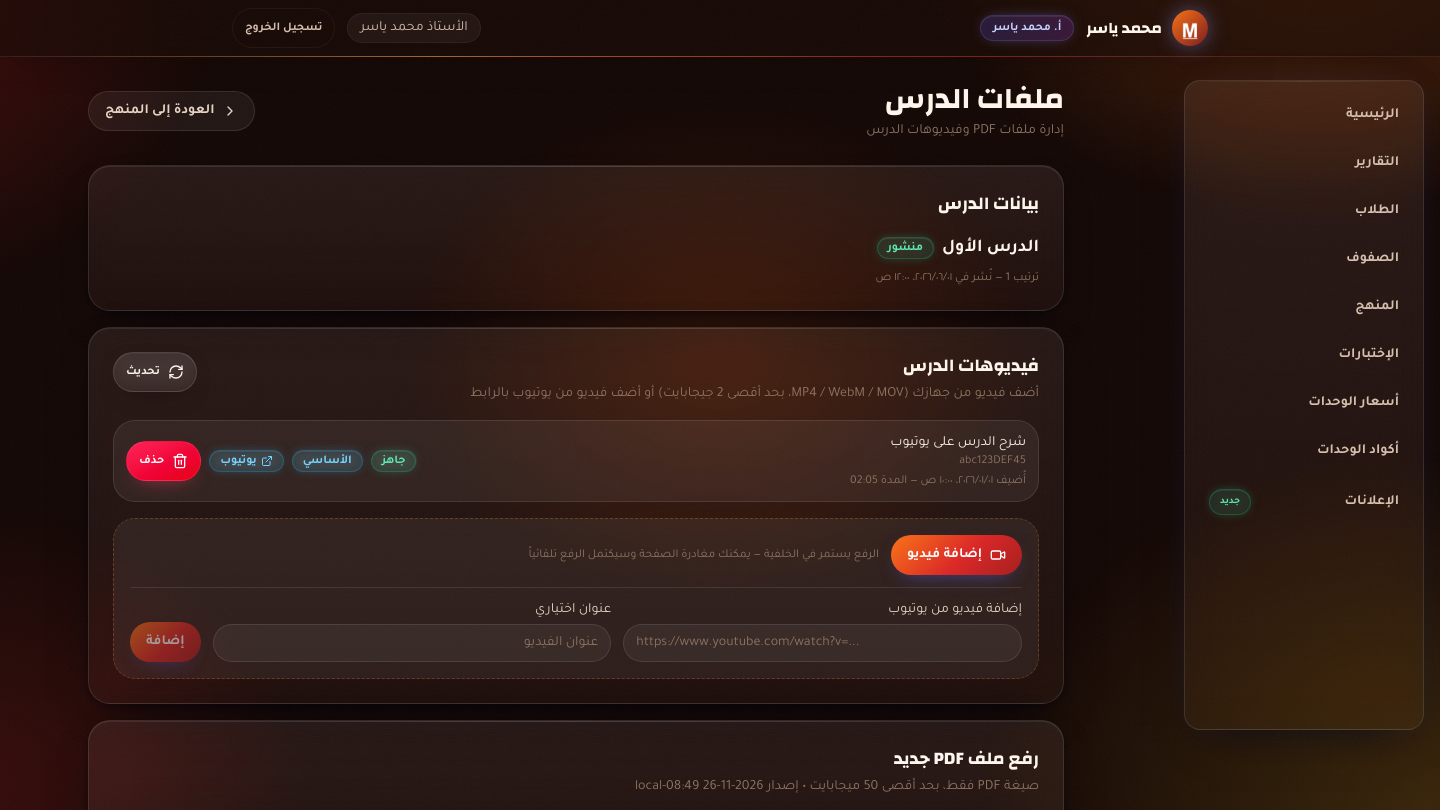
it: LessonAssetsPage — video section › adds a valid YouTube video through the RPC with url and optional title
Check: the list item with test id "video-row-youtube-1" is shown, box top-left (113, 420), bottom-right (1039, 502)
Type "https://www.youtube.com/watch?v=abc123DEF45" into the field labelled "إضافة فيديو من يوتيوب".
click(823, 643); type("https://www.youtube.com/watch?v=abc123DEF45")  # box top-left (623, 624), bottom-right (1022, 662)
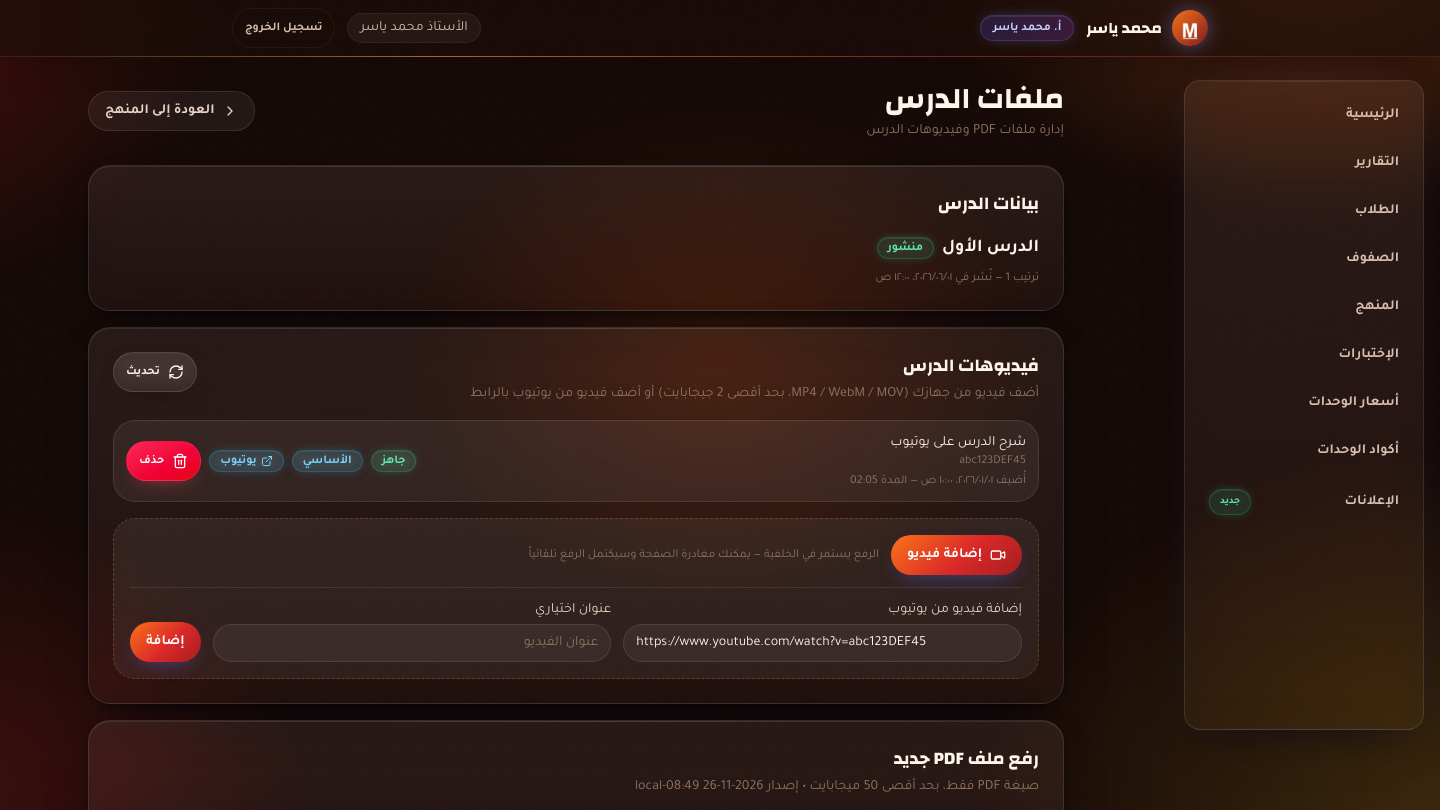
Type "شرح الدرس على يوتيوب" into the field labelled "عنوان اختياري".
click(412, 643); type("شرح الدرس على يوتيوب")  # box top-left (212, 624), bottom-right (611, 662)
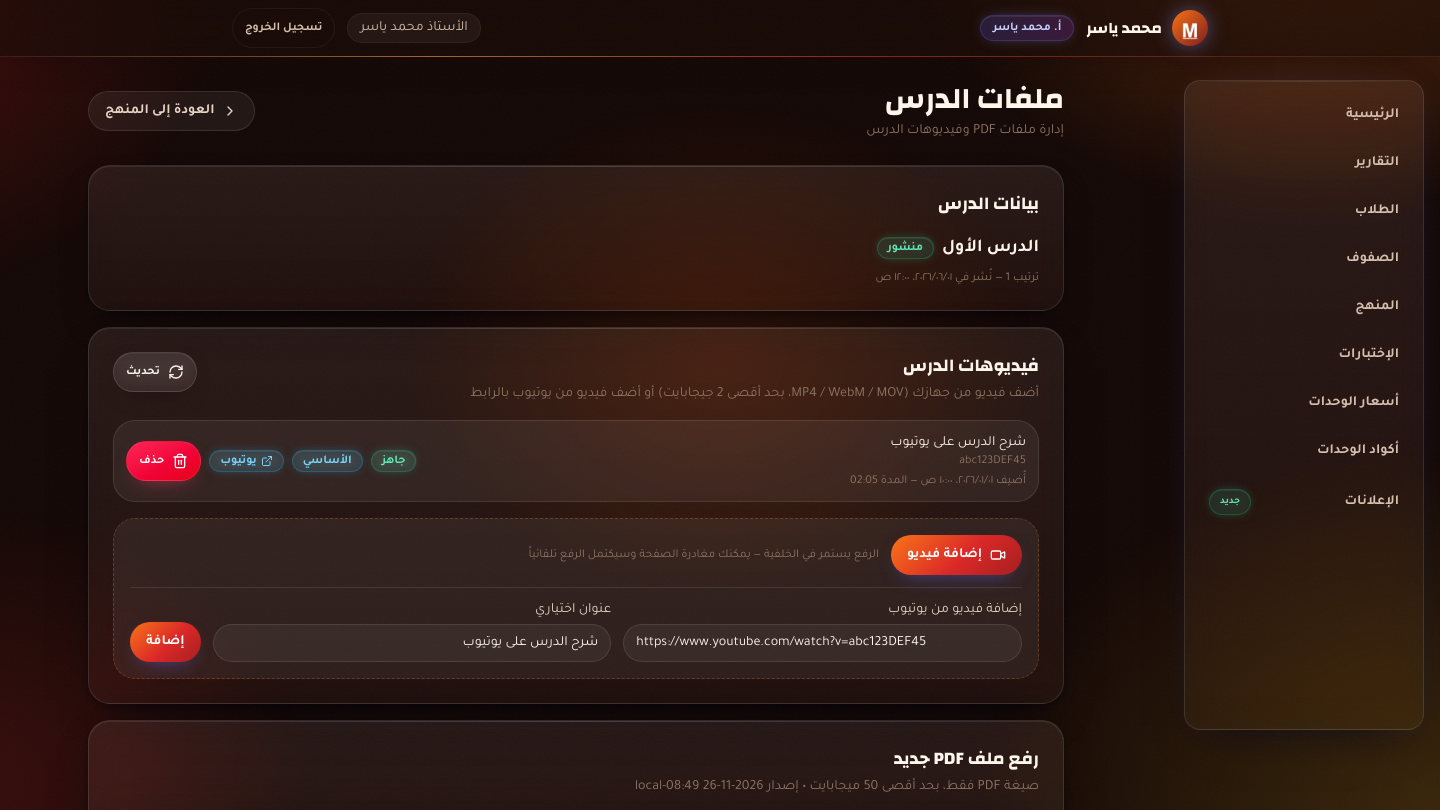
Click the button "إضافة".
click(165, 642)  # box top-left (130, 622), bottom-right (200, 662)
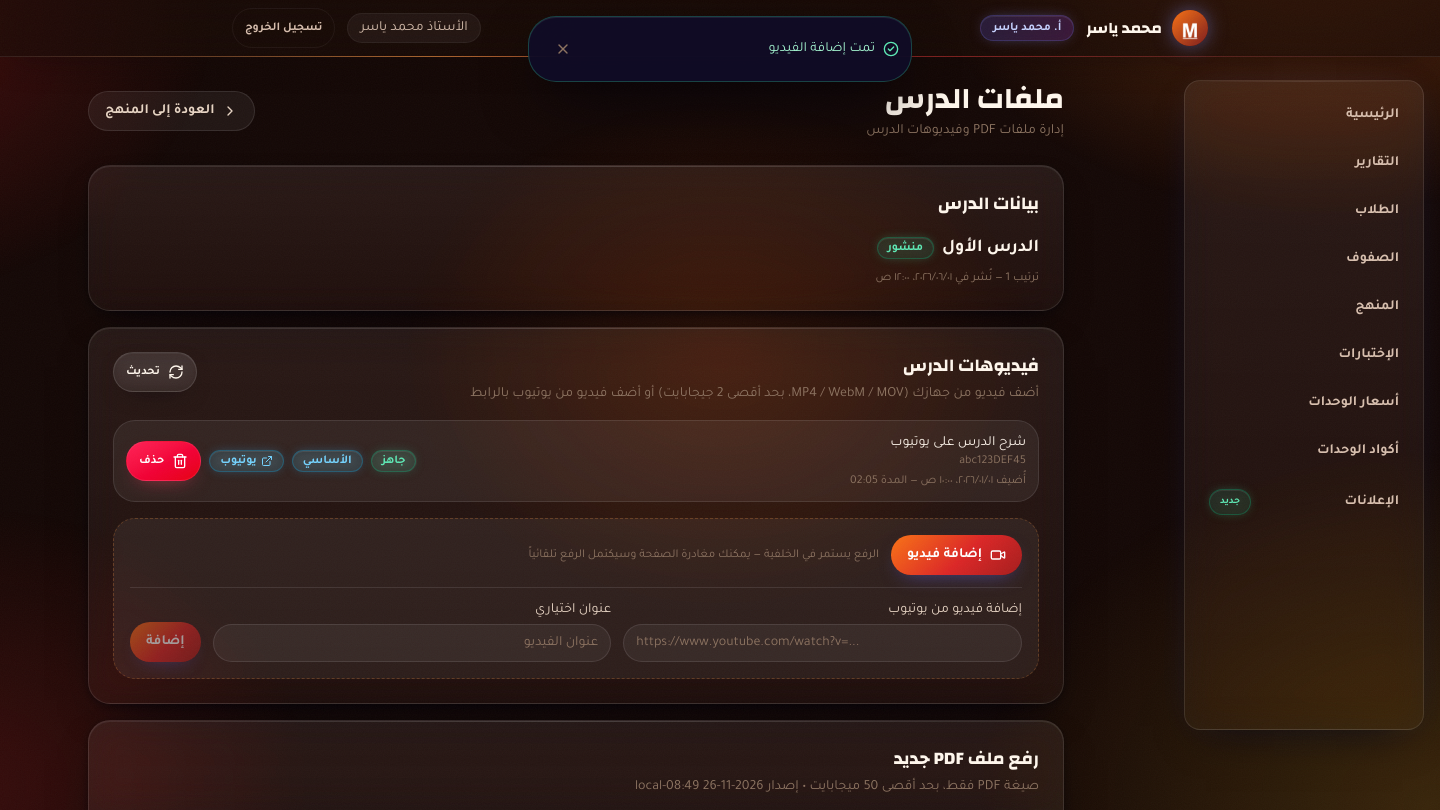
Check: the text "يوتيوب" is shown, box top-left (209, 450), bottom-right (284, 472)
Check: the text "تمت إضافة الفيديو" is shown, box top-left (768, 42), bottom-right (875, 56)
